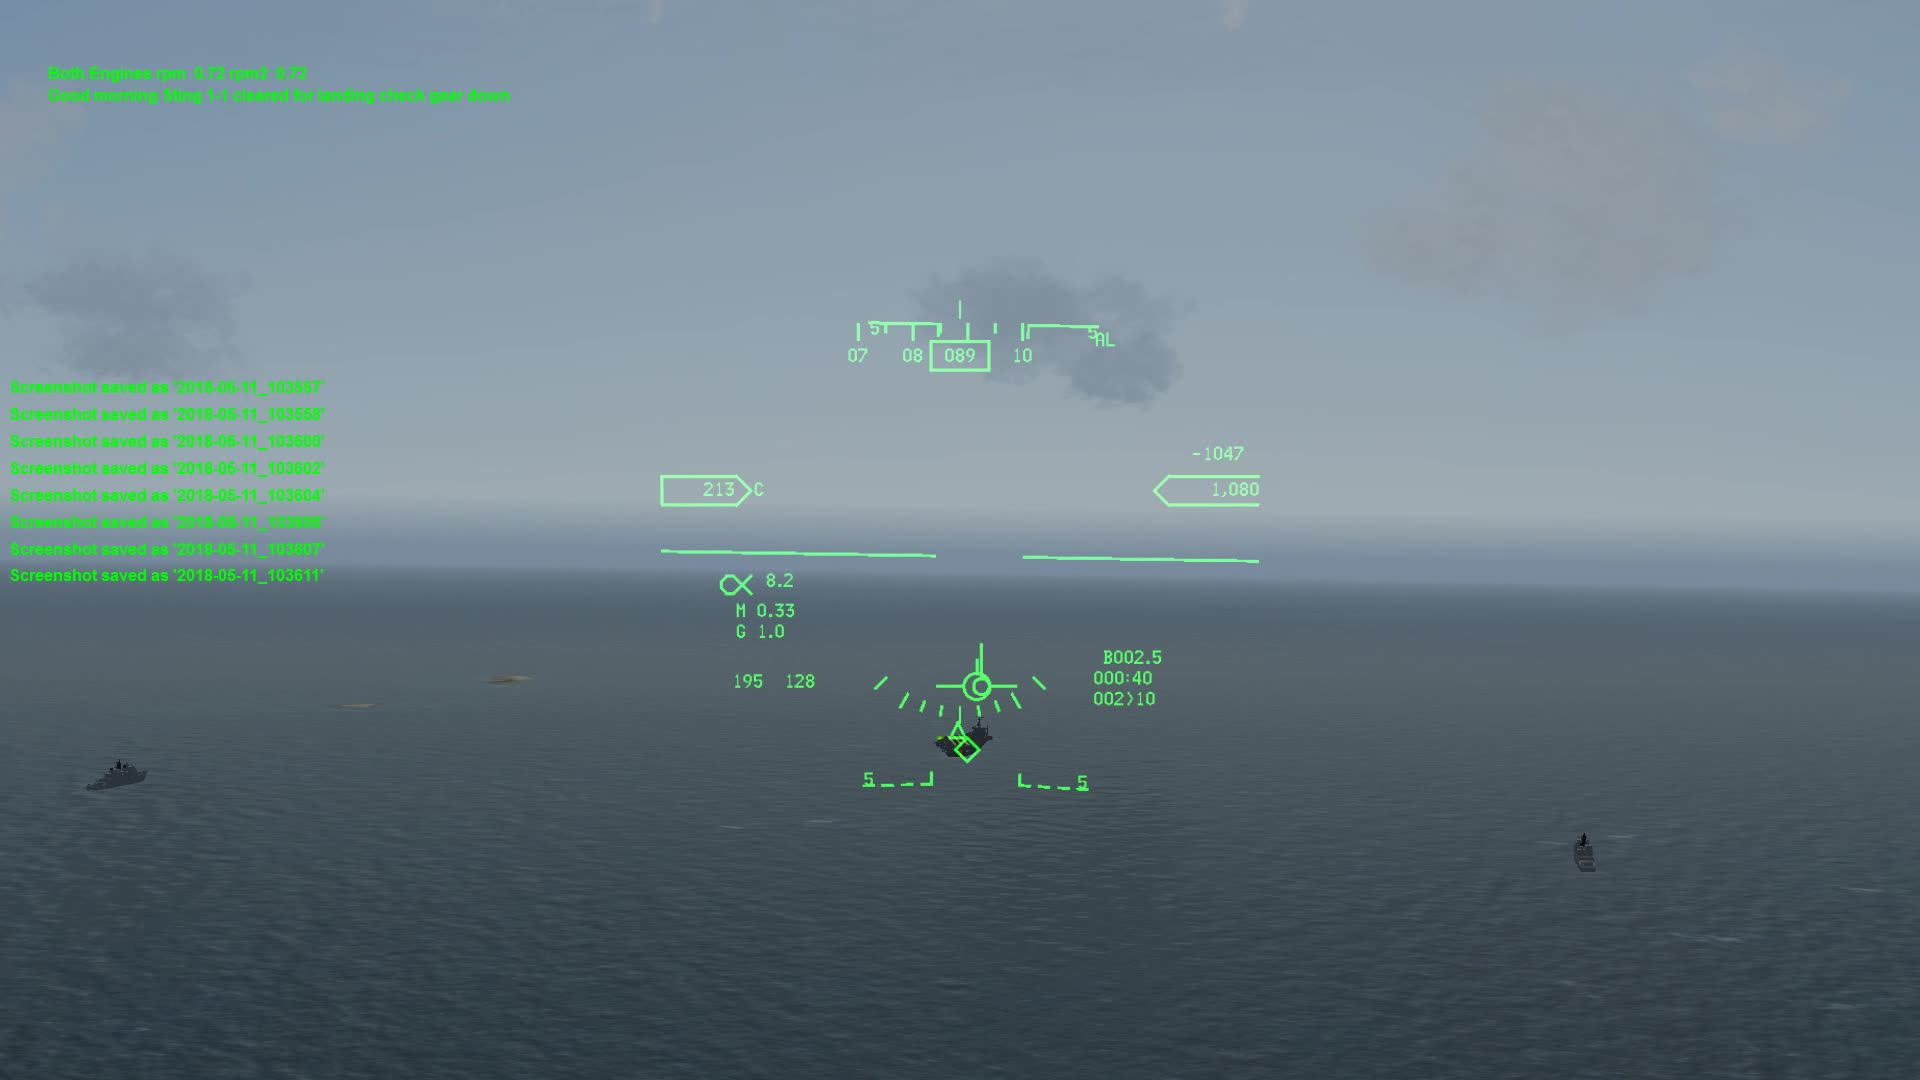speed vector: (923, 621, 1029, 708)
